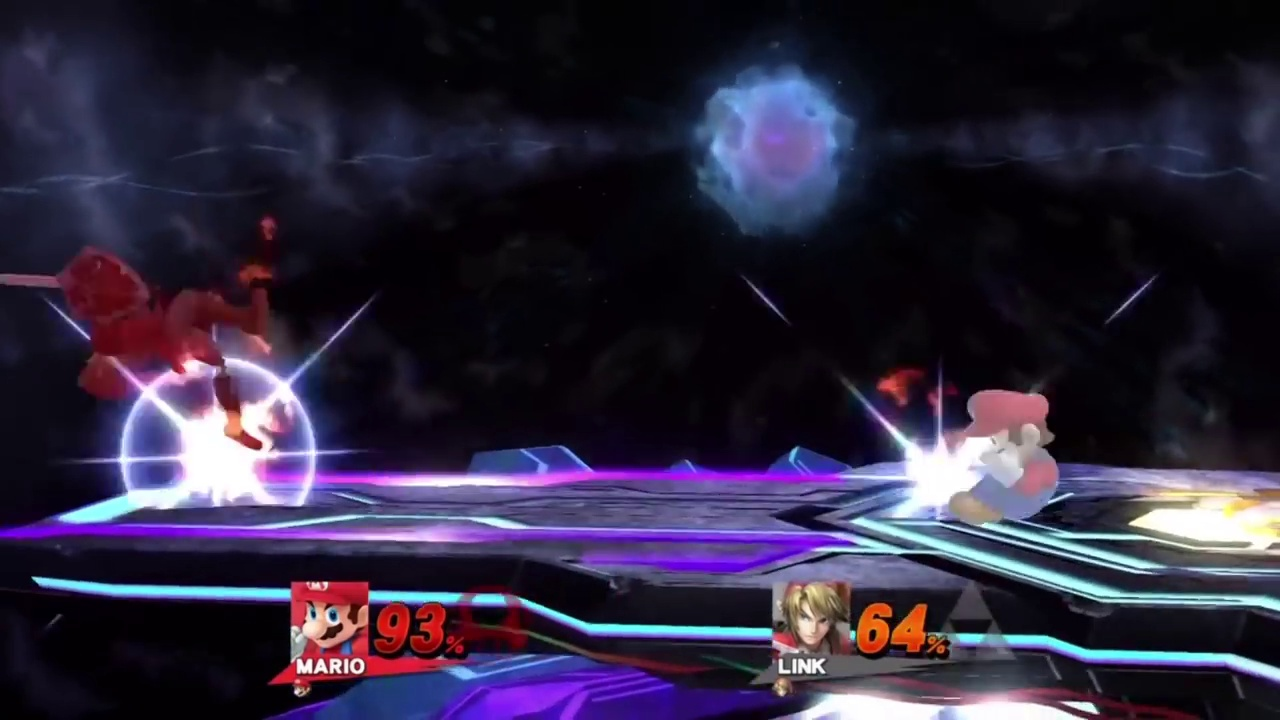Mario: (953, 390, 1056, 520)
